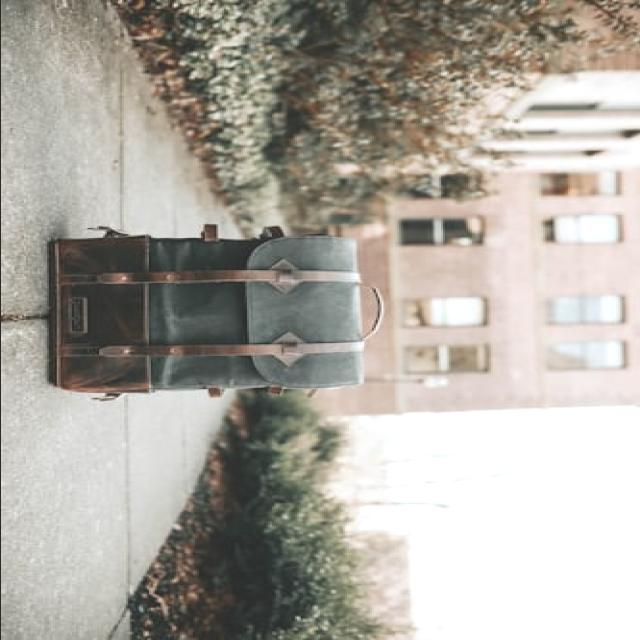backpack: (49, 224, 385, 402)
